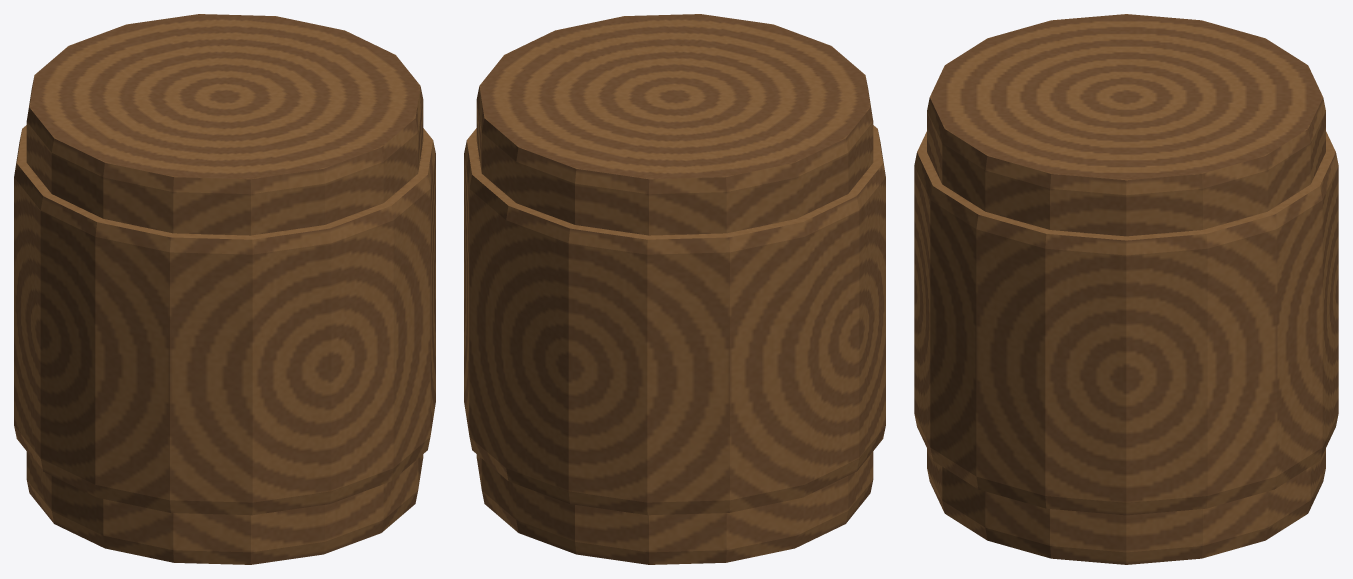
Rendered from MugCoaster.glb.
3 views of the same model, side by side, from view 1: azimuth 30°, elevation 25°; view 2: azimuth 150°, elevation 25°; view 3: azimuth 270°, elevation 25° (orthographic).
Visible parts, largest first — view 1: MugCoaster; view 2: MugCoaster; view 3: MugCoaster.
Part boxes in pixels (x1,y1,x2,y2): MugCoaster: [14, 14, 435, 564]; MugCoaster: [464, 14, 885, 564]; MugCoaster: [914, 14, 1338, 564].
Size of the model in its own units: 1 by 1 by 1.
Materials: 1 (1 with a texture image).
